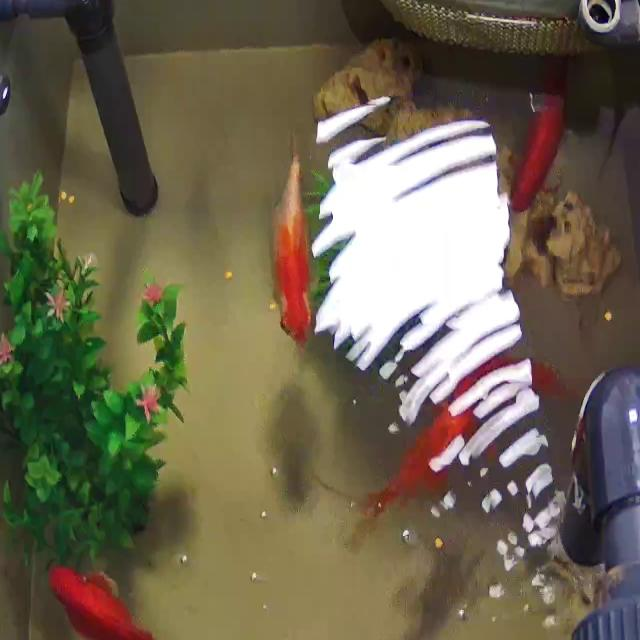fish: (393, 359, 542, 483), (49, 550, 227, 640), (361, 427, 461, 523), (272, 135, 316, 345), (510, 65, 564, 226)
